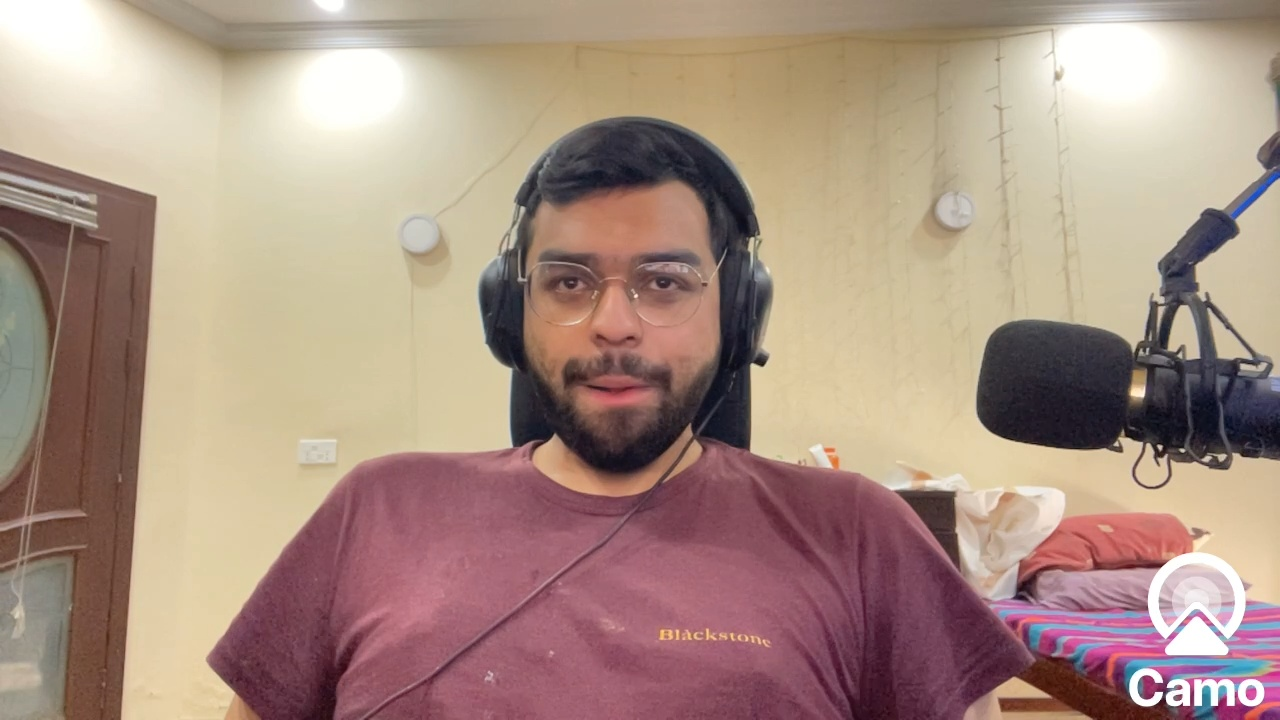surprised: (521, 175, 720, 474)
